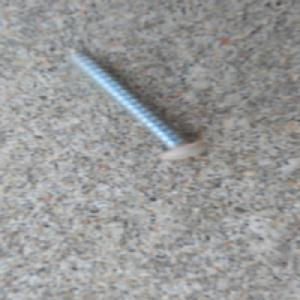Screw: (65, 44, 212, 160)
